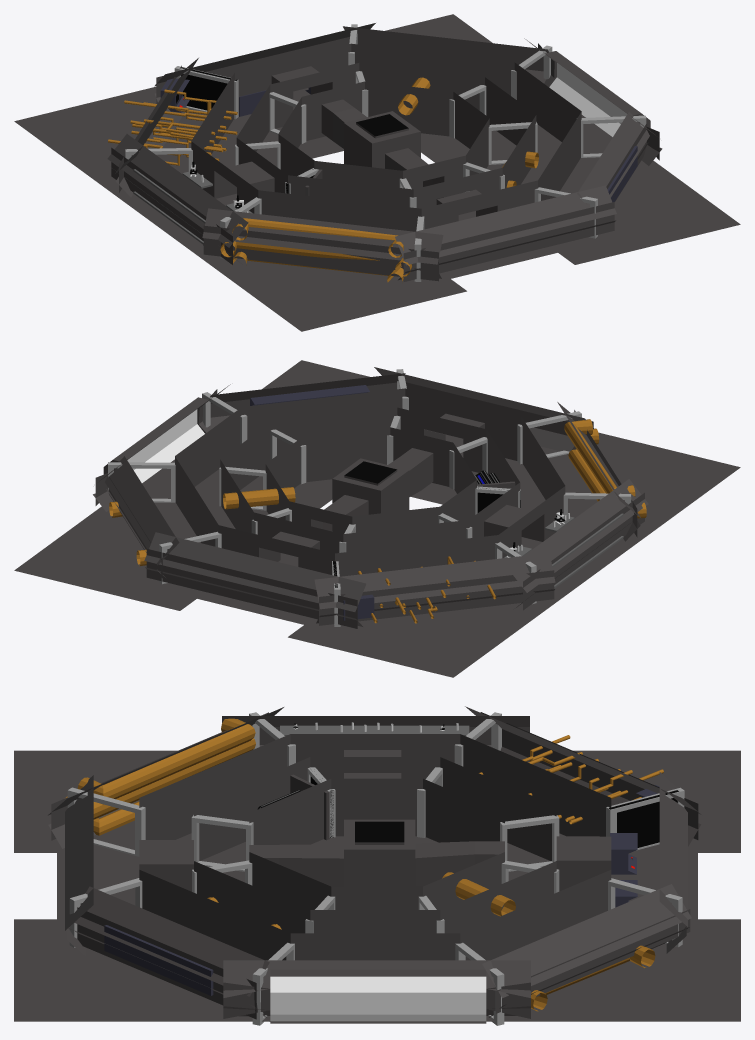
Rendered from Space_V3.fbx.
The picture shows the model from 3 angles, top to bottom: view 1: azimuth 30°, elevation 25°; view 2: azimuth 150°, elevation 25°; view 3: azimuth 270°, elevation 25°; orthographic projection. The views are drawn at different scales.
Visible parts, largest first — view 1: floor_1, floor_0, out_wall_out_2_2, center, out_wall_out_2_1, out_wall_out_3_2, out_wall_in_3, out_wall_out_3_1, out_wall_out_4_2, out_wall_in_7, in_wall_in_7, out_wall_in_6 (+43 smaller); view 2: floor_1, floor_0, out_wall_out_6_2, out_wall_out_5_2, center, out_wall_out_6_1, out_wall_out_5_1, out_wall_in_5, out_wall_out_4_2, in_wall_in_1, out_wall_in_1, out_wall_in_2 (+42 smaller); view 3: floor_0, floor_1, out_wall_out_0_2, center, out_wall_out_0_1, out_wall_out_7_2, out_wall_in_3, out_wall_in_7, out_wall_in_5, out_wall_in_1, out_wall_out_1_2, out_wall_in_0 (+57 smaller).
Boxes of the visible parts, bbox=[...] form: floor_1: bbox=[14, 86, 466, 331]; floor_0: bbox=[385, 14, 740, 264]; out_wall_out_2_2: bbox=[395, 185, 616, 265]; center: bbox=[333, 108, 432, 186]; out_wall_out_2_1: bbox=[403, 202, 614, 281]; out_wall_out_3_2: bbox=[202, 208, 443, 264]; out_wall_in_3: bbox=[258, 190, 421, 231]; out_wall_out_3_1: bbox=[203, 225, 438, 281]; out_wall_out_4_2: bbox=[107, 134, 248, 247]; out_wall_in_7: bbox=[351, 43, 514, 95]; in_wall_in_7: bbox=[365, 81, 453, 136]; out_wall_in_6: bbox=[235, 44, 351, 116]; floor_1: bbox=[288, 432, 740, 677]; floor_0: bbox=[14, 360, 369, 610]; out_wall_out_6_2: bbox=[144, 532, 366, 611]; out_wall_out_5_2: bbox=[314, 553, 555, 609]; center: bbox=[323, 456, 421, 531]; out_wall_out_6_1: bbox=[146, 549, 357, 628]; out_wall_out_5_1: bbox=[319, 570, 554, 625]; out_wall_in_5: bbox=[335, 535, 498, 576]; out_wall_out_4_2: bbox=[508, 479, 648, 592]; in_wall_in_1: bbox=[302, 427, 390, 482]; out_wall_in_1: bbox=[242, 388, 405, 439]; out_wall_in_2: bbox=[405, 388, 521, 460]; floor_0: bbox=[14, 919, 740, 1021]; floor_1: bbox=[14, 750, 740, 852]; out_wall_out_0_2: bbox=[223, 960, 530, 997]; center: bbox=[279, 819, 475, 886]; out_wall_out_0_1: bbox=[223, 982, 530, 1018]; out_wall_out_7_2: bbox=[482, 884, 691, 998]; out_wall_in_3: bbox=[139, 734, 290, 839]; out_wall_in_7: bbox=[460, 870, 611, 960]; out_wall_in_5: bbox=[460, 734, 611, 836]; out_wall_in_1: bbox=[139, 870, 290, 960]; out_wall_out_1_2: bbox=[74, 886, 269, 996]; out_wall_in_0: bbox=[290, 933, 460, 960].
Size of the model in its own units: 3262 by 391 by 3600.
